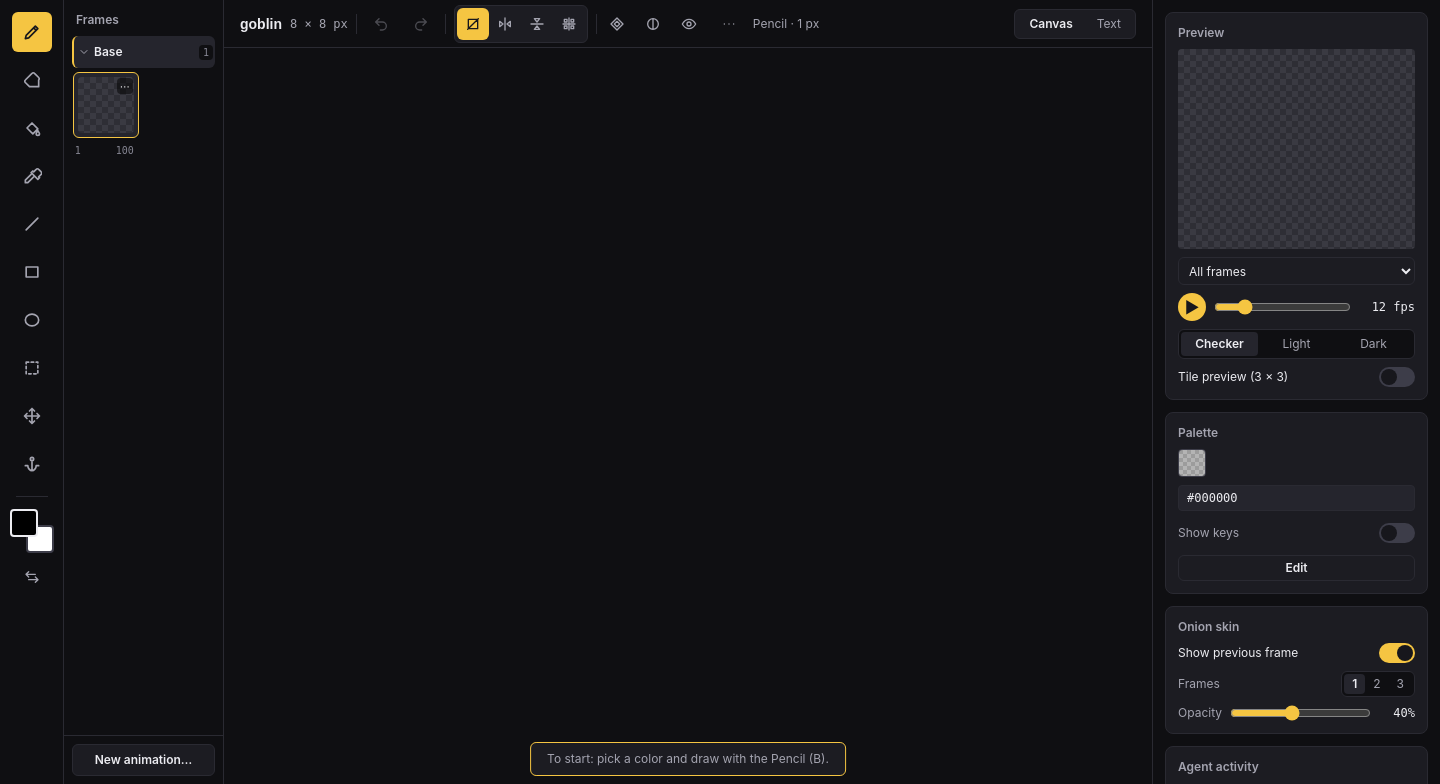
Scenario: canvas bar › shows the tool that is chosen
Click the button named "Eraser" at coordinates (32, 80), box [12,60,52,100]
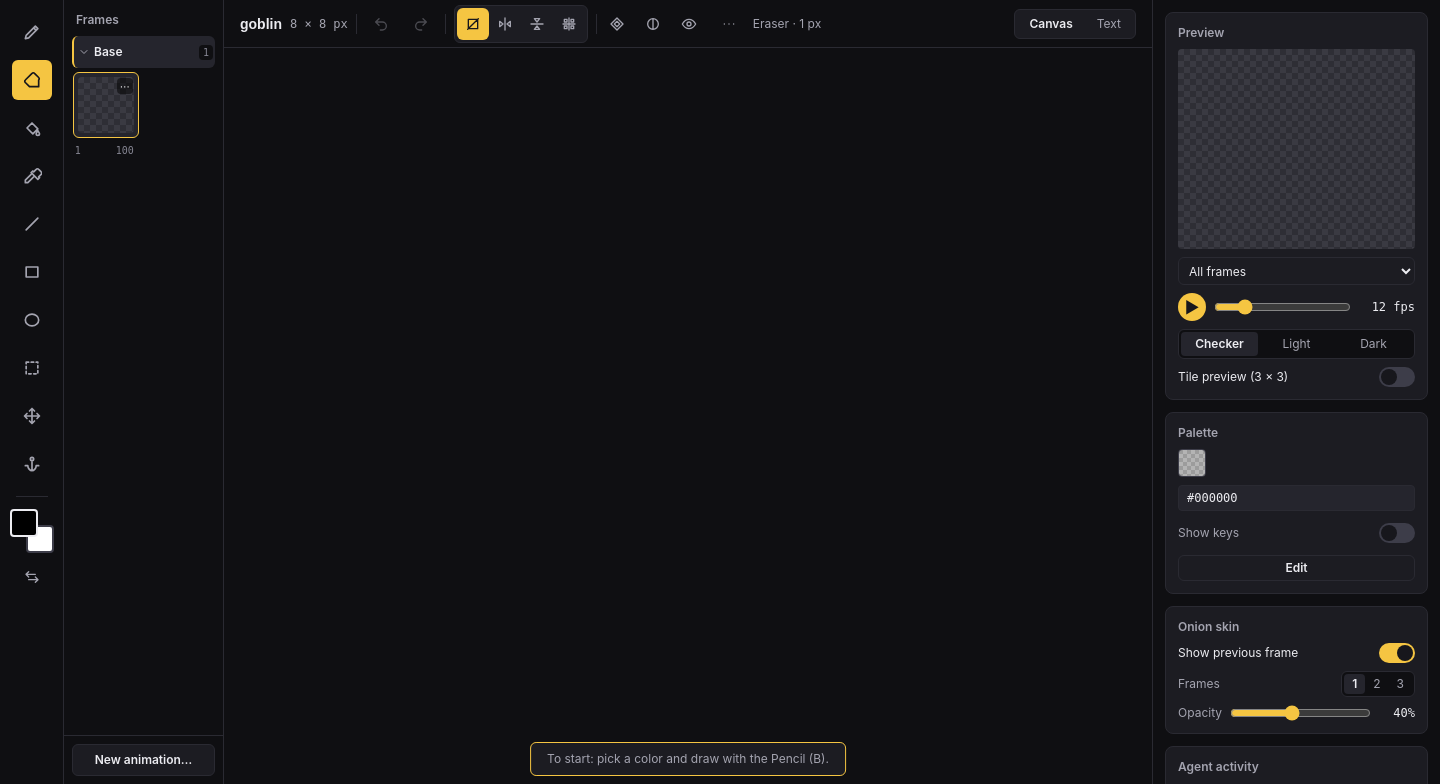
Check: the text with test id "active-tool" reads "Eraser · 1 px", box [753,16,821,30]
